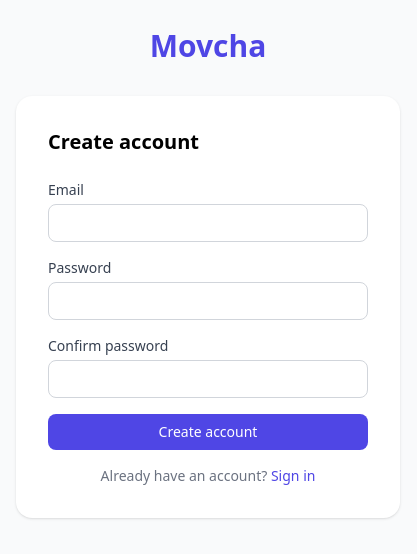
it: Register page › shows error when passwords do not match
Type "a@test.com" into the field labelled "Email" at (208, 223), box [48,204,368,242]
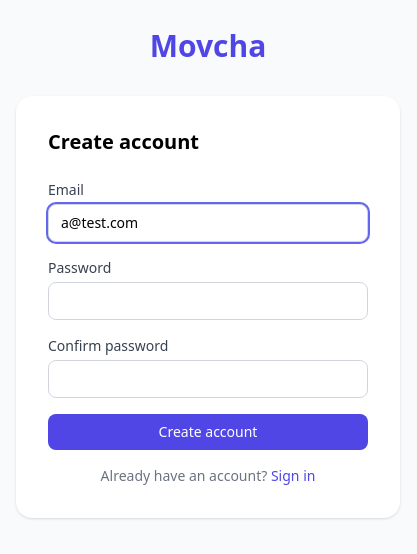
Type "pass123" into the password field labelled "Password" at (208, 301), box [48,282,368,320]
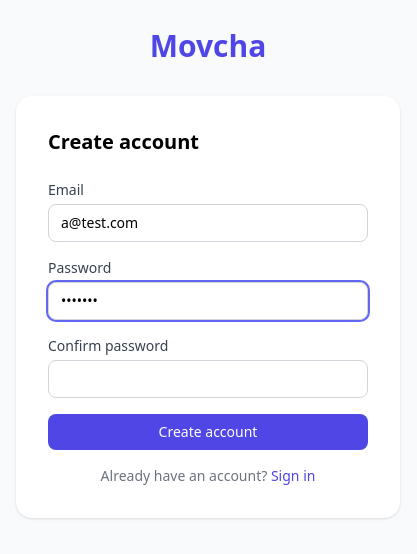
Type "different" into the password field labelled "Confirm password" at (208, 379), box [48,360,368,398]
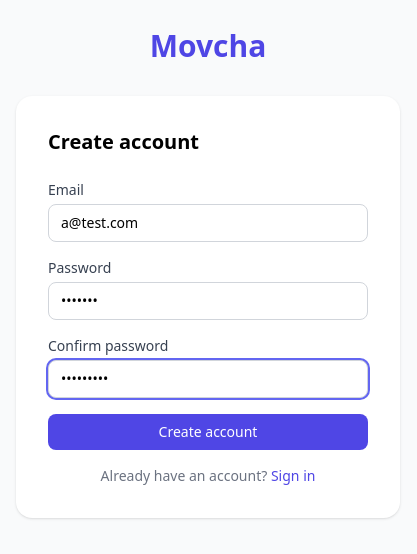
Click the button "Create account" at (208, 432), box [48,414,368,450]
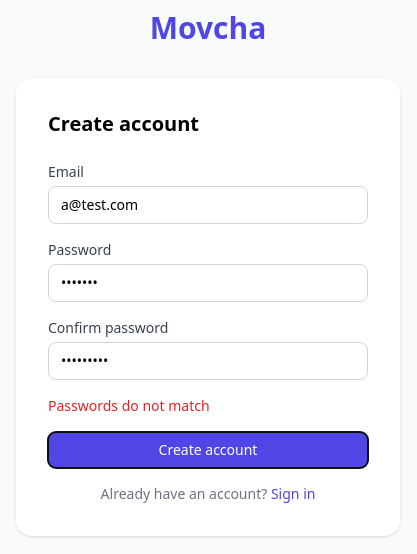
Now the text "Passwords do not match" is shown, box [48,396,210,415]
